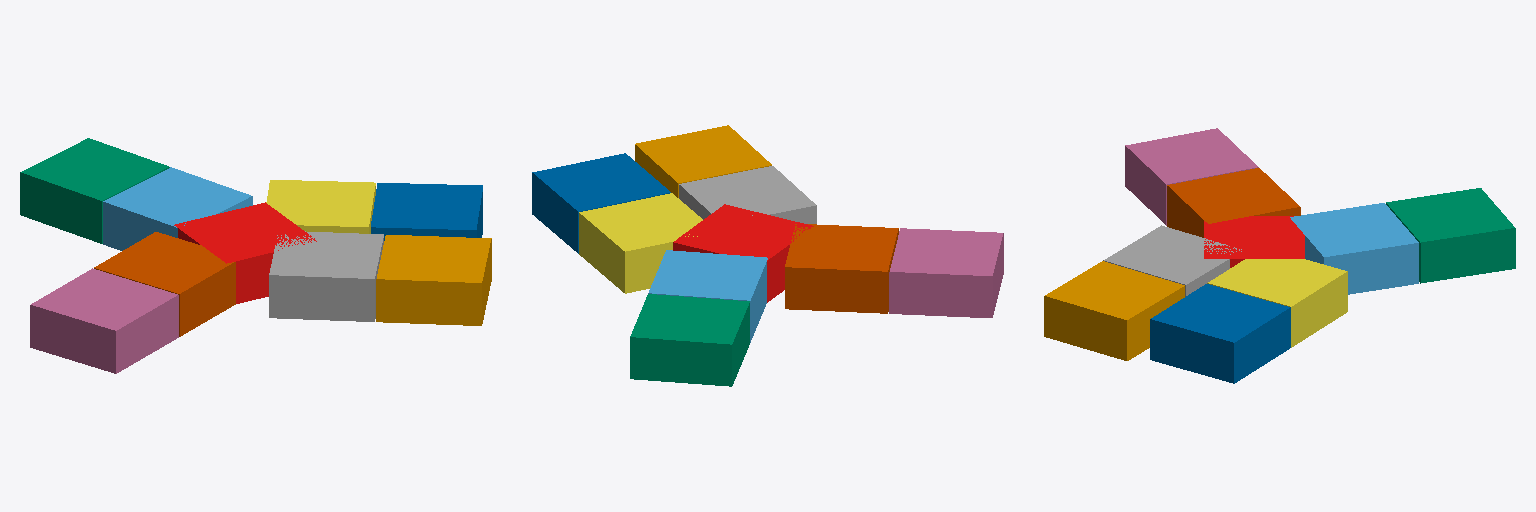
The robot description file, URDF, robot "Model_Models/Model_186.urdf4":
<?xml version='1.0' encoding='UTF-8'?>
<robot name="Model_Models/Model_186.urdf4">
  <link name="base_link">
    <inertial>
      <origin xyz="0.0 0.0 0.0" rpy="0.0 -0.0 0.0"/>
      <mass value="1.0"/>
      <inertia ixx="1.0" ixy="0.0" ixz="0.0" iyy="1.0" iyz="0.0" izz="1.0"/>
    </inertial>
    <visual>
      <geometry>
        <box size="0.67 0.67 0.3 "/>
      </geometry>
      <material name="red"/>
      <origin xyz="0.0 0.0 0.0" rpy="0.0 -0.0 0.0"/>
    </visual>
    <collision>
      <geometry>
        <box size="0.67 0.67 0.3 "/>
      </geometry>
      <origin xyz="0.0 0.0 0.0" rpy="0.0 0.0 0.0"/>
    </collision>
  </link>
  <link name="arm_0_arm1">
    <inertial>
      <origin xyz="0.0 0.34 0.0" rpy="0.0 0.0 0.0"/>
      <mass value="1.0"/>
      <inertia ixx="0.0" ixy="0.0" ixz="0.0" iyy="0.0" iyz="0.0" izz="0.0"/>
    </inertial>
    <visual>
      <geometry>
        <box size="0.67 0.67 0.3 "/>
      </geometry>
      <origin xyz="0.0 0.34 0.0" rpy="0.0 0.0 0.0"/>
    </visual>
    <collision>
      <geometry>
        <box size="0.67 0.67 0.3 "/>
      </geometry>
      <origin xyz="0.0 0.34 0.0" rpy="0.0 0.0 0.0"/>
    </collision>
  </link>
  <link name="arm_0_arm2">
    <inertial>
      <origin xyz="0.0 0.34 0.0" rpy="0.0 0.0 0.0"/>
      <mass value="1.0"/>
      <inertia ixx="0.0" ixy="0.0" ixz="0.0" iyy="0.0" iyz="0.0" izz="0.0"/>
    </inertial>
    <visual>
      <geometry>
        <box size="0.67 0.67 0.3 "/>
      </geometry>
      <origin xyz="0.0 0.34 0.0" rpy="0.0 0.0 0.0"/>
    </visual>
    <collision>
      <geometry>
        <box size="0.67 0.67 0.3 "/>
      </geometry>
      <origin xyz="0.0 0.34 0.0" rpy="0.0 0.0 0.0"/>
    </collision>
  </link>
  <link name="arm_2_arm1">
    <inertial>
      <origin xyz="0.0 0.34 0.0" rpy="0.0 0.0 0.0"/>
      <mass value="1.0"/>
      <inertia ixx="0.0" ixy="0.0" ixz="0.0" iyy="0.0" iyz="0.0" izz="0.0"/>
    </inertial>
    <visual>
      <geometry>
        <box size="0.67 0.67 0.3 "/>
      </geometry>
      <origin xyz="0.0 0.34 0.0" rpy="0.0 0.0 0.0"/>
    </visual>
    <collision>
      <geometry>
        <box size="0.67 0.67 0.3 "/>
      </geometry>
      <origin xyz="0.0 0.34 0.0" rpy="0.0 0.0 0.0"/>
    </collision>
  </link>
  <link name="arm_2_arm2">
    <inertial>
      <origin xyz="0.0 0.34 0.0" rpy="0.0 0.0 0.0"/>
      <mass value="1.0"/>
      <inertia ixx="0.0" ixy="0.0" ixz="0.0" iyy="0.0" iyz="0.0" izz="0.0"/>
    </inertial>
    <visual>
      <geometry>
        <box size="0.67 0.67 0.3 "/>
      </geometry>
      <origin xyz="0.0 0.34 0.0" rpy="0.0 0.0 0.0"/>
    </visual>
    <collision>
      <geometry>
        <box size="0.67 0.67 0.3 "/>
      </geometry>
      <origin xyz="0.0 0.34 0.0" rpy="0.0 0.0 0.0"/>
    </collision>
  </link>
  <link name="arm_3_arm1">
    <inertial>
      <origin xyz="0.0 0.34 0.0" rpy="0.0 0.0 0.0"/>
      <mass value="1.0"/>
      <inertia ixx="0.0" ixy="0.0" ixz="0.0" iyy="0.0" iyz="0.0" izz="0.0"/>
    </inertial>
    <visual>
      <geometry>
        <box size="0.67 0.67 0.3 "/>
      </geometry>
      <origin xyz="0.0 0.34 0.0" rpy="0.0 0.0 0.0"/>
    </visual>
    <collision>
      <geometry>
        <box size="0.67 0.67 0.3 "/>
      </geometry>
      <origin xyz="0.0 0.34 0.0" rpy="0.0 0.0 0.0"/>
    </collision>
  </link>
  <link name="arm_3_arm2">
    <inertial>
      <origin xyz="0.0 0.34 0.0" rpy="0.0 0.0 0.0"/>
      <mass value="1.0"/>
      <inertia ixx="0.0" ixy="0.0" ixz="0.0" iyy="0.0" iyz="0.0" izz="0.0"/>
    </inertial>
    <visual>
      <geometry>
        <box size="0.67 0.67 0.3 "/>
      </geometry>
      <origin xyz="0.0 0.34 0.0" rpy="0.0 0.0 0.0"/>
    </visual>
    <collision>
      <geometry>
        <box size="0.67 0.67 0.3 "/>
      </geometry>
      <origin xyz="0.0 0.34 0.0" rpy="0.0 0.0 0.0"/>
    </collision>
  </link>
  <link name="arm_Permutation_4_arm1">
    <inertial>
      <origin xyz="0.0 0.34 0.0" rpy="0.0 0.0 0.0"/>
      <mass value="1.0"/>
      <inertia ixx="0.0" ixy="0.0" ixz="0.0" iyy="0.0" iyz="0.0" izz="0.0"/>
    </inertial>
    <visual>
      <geometry>
        <box size="0.67 0.67 0.3 "/>
      </geometry>
      <origin xyz="0.0 0.34 0.0" rpy="0.0 0.0 0.0"/>
    </visual>
    <collision>
      <geometry>
        <box size="0.67 0.67 0.3 "/>
      </geometry>
      <origin xyz="0.0 0.34 0.0" rpy="0.0 0.0 0.0"/>
    </collision>
  </link>
  <link name="arm_Permutation_4_arm2">
    <inertial>
      <origin xyz="0.0 0.34 0.0" rpy="0.0 0.0 0.0"/>
      <mass value="1.0"/>
      <inertia ixx="0.0" ixy="0.0" ixz="0.0" iyy="0.0" iyz="0.0" izz="0.0"/>
    </inertial>
    <visual>
      <geometry>
        <box size="0.67 0.67 0.3 "/>
      </geometry>
      <origin xyz="0.0 0.34 0.0" rpy="0.0 0.0 0.0"/>
    </visual>
    <collision>
      <geometry>
        <box size="0.67 0.67 0.3 "/>
      </geometry>
      <origin xyz="0.0 0.34 0.0" rpy="0.0 0.0 0.0"/>
    </collision>
  </link>
  <joint name="arm_0_jointBase" type="fixed">
    <limit effort="1.57" velocity="1.57" lower="-1.57" upper="1.57"/>
    <parent link="base_link"/>
    <child link="arm_0_arm1"/>
    <axis xyz="1. 0. 0."/>
    <origin xyz="0.0 0.34 0.0" rpy="0.0 0.0 0.35"/>
  </joint>
  <joint name="arm_0_joint1" type="revolute">
    <limit effort="1.57" velocity="1.57" lower="-1.57" upper="1.57"/>
    <parent link="arm_0_arm1"/>
    <child link="arm_0_arm2"/>
    <axis xyz="1. 0. 0."/>
    <origin xyz="0.0 0.68 0.0" rpy="0.0 0.0 0.0"/>
  </joint>
  <joint name="arm_2_jointBase" type="fixed">
    <limit effort="1.57" velocity="1.57" lower="-1.57" upper="1.57"/>
    <parent link="base_link"/>
    <child link="arm_2_arm1"/>
    <axis xyz="1. 0. 0."/>
    <origin xyz="0.34 0.34 0.0" rpy="0.0 0.0 -2.16"/>
  </joint>
  <joint name="arm_2_joint1" type="revolute">
    <limit effort="1.57" velocity="1.57" lower="-1.57" upper="1.57"/>
    <parent link="arm_2_arm1"/>
    <child link="arm_2_arm2"/>
    <axis xyz="1. 0. 0."/>
    <origin xyz="0.0 0.68 0.0" rpy="0.0 0.0 0.0"/>
  </joint>
  <joint name="arm_3_jointBase" type="fixed">
    <limit effort="1.57" velocity="1.57" lower="-1.57" upper="1.57"/>
    <parent link="base_link"/>
    <child link="arm_3_arm1"/>
    <axis xyz="1. 0. 0."/>
    <origin xyz="-0.34 0.0 0.0" rpy="0.0 0.0 1.99"/>
  </joint>
  <joint name="arm_3_joint1" type="revolute">
    <limit effort="1.57" velocity="1.57" lower="-1.57" upper="1.57"/>
    <parent link="arm_3_arm1"/>
    <child link="arm_3_arm2"/>
    <axis xyz="1. 0. 0."/>
    <origin xyz="0.0 0.68 0.0" rpy="0.0 0.0 0.0"/>
  </joint>
  <joint name="arm_Permutation_4_jointBase" type="fixed">
    <limit effort="1.57" velocity="1.57" lower="-1.57" upper="1.57"/>
    <parent link="base_link"/>
    <child link="arm_Permutation_4_arm1"/>
    <axis xyz="1. 0. 0."/>
    <origin xyz="0.0 -0.34 0.0" rpy="0.0 0.0 -2.183185307179587"/>
  </joint>
  <joint name="arm_Permutation_4_joint1" type="revolute">
    <limit effort="1.57" velocity="1.57" lower="-1.57" upper="1.57"/>
    <parent link="arm_Permutation_4_arm1"/>
    <child link="arm_Permutation_4_arm2"/>
    <axis xyz="1. 0. 0."/>
    <origin xyz="0.0 0.68 0.0" rpy="0.0 0.0 0.0"/>
  </joint>
  <material name="red">
    <color rgba="0.969 0.129 0.122 1.   "/>
  </material>
</robot>

--- Render facts (derived) ---
3 views of the same robot in one strip: view 1: azimuth 30°, elevation 25°; view 2: azimuth 150°, elevation 25°; view 3: azimuth 270°, elevation 25° (orthographic).
Model Model_Models/Model_186.urdf4 with 9 links and 8 joints (4 revolute, 4 fixed), rooted at base_link, posed every joint at zero.
Visible links, largest first — view 1: arm_3_arm2, arm_Permutation_4_arm2, arm_Permutation_4_arm1, arm_0_arm2, arm_3_arm1, arm_0_arm1, base_link, arm_2_arm2, arm_2_arm1; view 2: arm_0_arm2, arm_3_arm2, arm_3_arm1, arm_2_arm1, arm_2_arm2, arm_0_arm1, arm_Permutation_4_arm2, base_link, arm_Permutation_4_arm1; view 3: arm_2_arm2, arm_Permutation_4_arm2, arm_0_arm2, arm_0_arm1, arm_2_arm1, arm_3_arm2, arm_3_arm1, arm_Permutation_4_arm1, base_link.
Boxes of the visible links, x1=… form: arm_3_arm2: x1=30, y1=268, x2=178, y2=373; arm_Permutation_4_arm2: x1=376, y1=235, x2=491, y2=325; arm_Permutation_4_arm1: x1=269, y1=231, x2=383, y2=321; arm_0_arm2: x1=20, y1=138, x2=169, y2=243; arm_3_arm1: x1=94, y1=232, x2=235, y2=336; arm_0_arm1: x1=103, y1=167, x2=252, y2=250; base_link: x1=174, y1=202, x2=316, y2=303; arm_2_arm2: x1=371, y1=183, x2=482, y2=240; arm_2_arm1: x1=266, y1=180, x2=375, y2=233; arm_0_arm2: x1=630, y1=294, x2=749, y2=386; arm_3_arm2: x1=889, y1=228, x2=1003, y2=317; arm_3_arm1: x1=785, y1=224, x2=898, y2=313; arm_2_arm1: x1=579, y1=193, x2=702, y2=293; arm_2_arm2: x1=532, y1=153, x2=670, y2=253; arm_0_arm1: x1=648, y1=250, x2=767, y2=342; arm_Permutation_4_arm2: x1=635, y1=125, x2=771, y2=197; base_link: x1=673, y1=204, x2=813, y2=302; arm_Permutation_4_arm1: x1=679, y1=166, x2=816, y2=223; arm_2_arm2: x1=1150, y1=284, x2=1290, y2=383; arm_Permutation_4_arm2: x1=1044, y1=261, x2=1184, y2=360; arm_0_arm2: x1=1386, y1=188, x2=1515, y2=283; arm_0_arm1: x1=1290, y1=203, x2=1418, y2=294; arm_2_arm1: x1=1207, y1=259, x2=1347, y2=347; arm_3_arm2: x1=1125, y1=128, x2=1258, y2=225; arm_3_arm1: x1=1167, y1=168, x2=1300, y2=237; arm_Permutation_4_arm1: x1=1103, y1=225, x2=1241, y2=296; base_link: x1=1204, y1=216, x2=1304, y2=267.
Bounding box of the posed robot: 3.37 × 3.12 × 0.3 m (x, y, z).
Geometry: primitives only (box / cylinder / sphere), no mesh files.